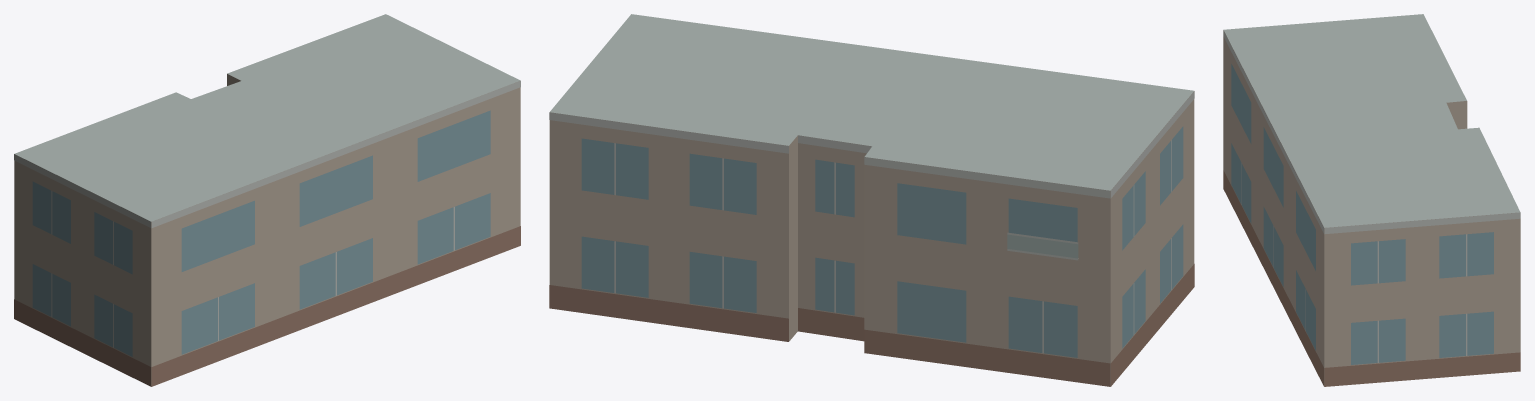
Rendered from survey-upis-32707290.glb.
3 renders of one model, left to right at view 1: azimuth 30°, elevation 25°; view 2: azimuth 150°, elevation 25°; view 3: azimuth 270°, elevation 25°, orthographic. The views are drawn at different scales.
Visible parts, largest first — view 1: survey-upis-32707290.tmp; view 2: survey-upis-32707290.tmp; view 3: survey-upis-32707290.tmp.
Boxes of the visible parts, left/top/right/bottom form: survey-upis-32707290.tmp: left=14, top=14, right=520, bottom=386; survey-upis-32707290.tmp: left=549, top=14, right=1194, bottom=386; survey-upis-32707290.tmp: left=1223, top=14, right=1520, bottom=386.
Size of the model in its own units: 17.61 by 6.1 by 10.34.
